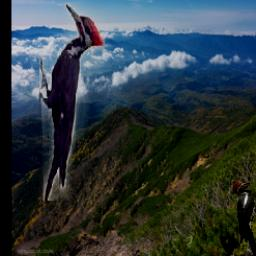Woodpecker: (38, 2, 104, 201), (232, 181, 256, 256)
